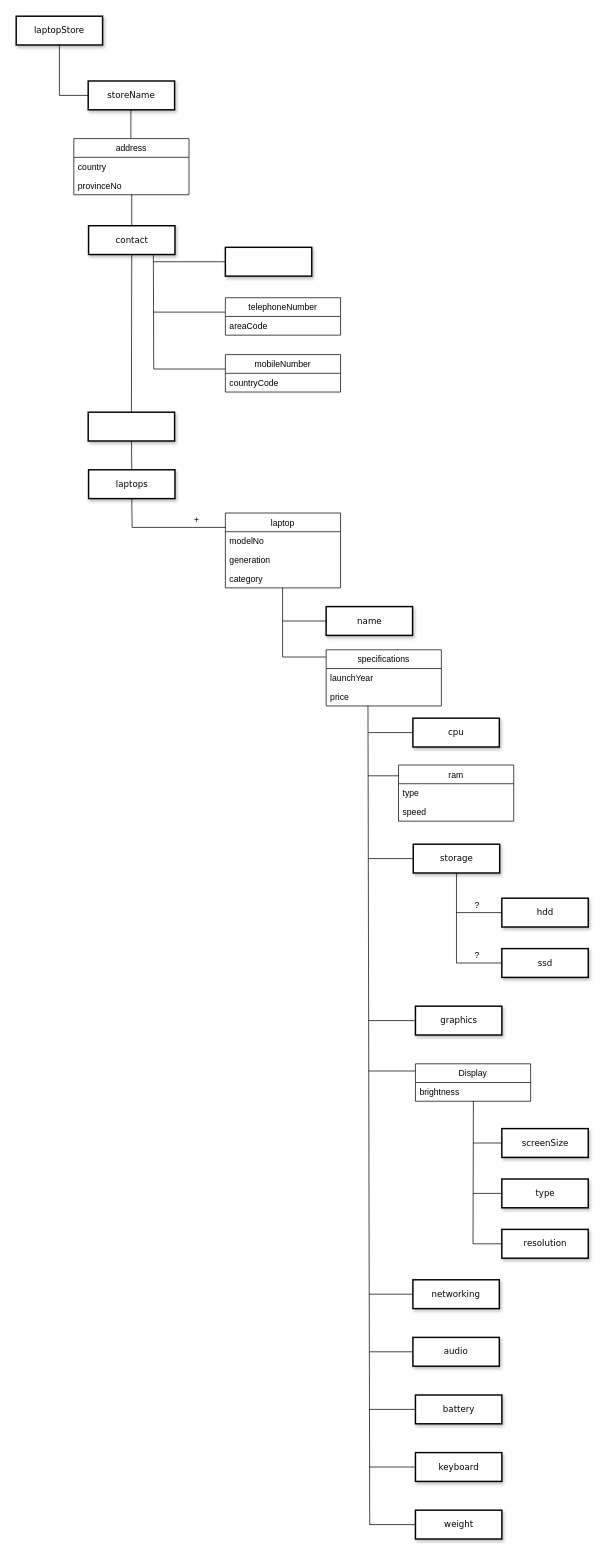
Image size: 606x1557. Some labels were removed from this diagram. The shapes that lost their labels are listed below. From the top down, each one's centre as x and y in pixels, then its label:
At point 268,262: "email".
At point 131,427: "website".
